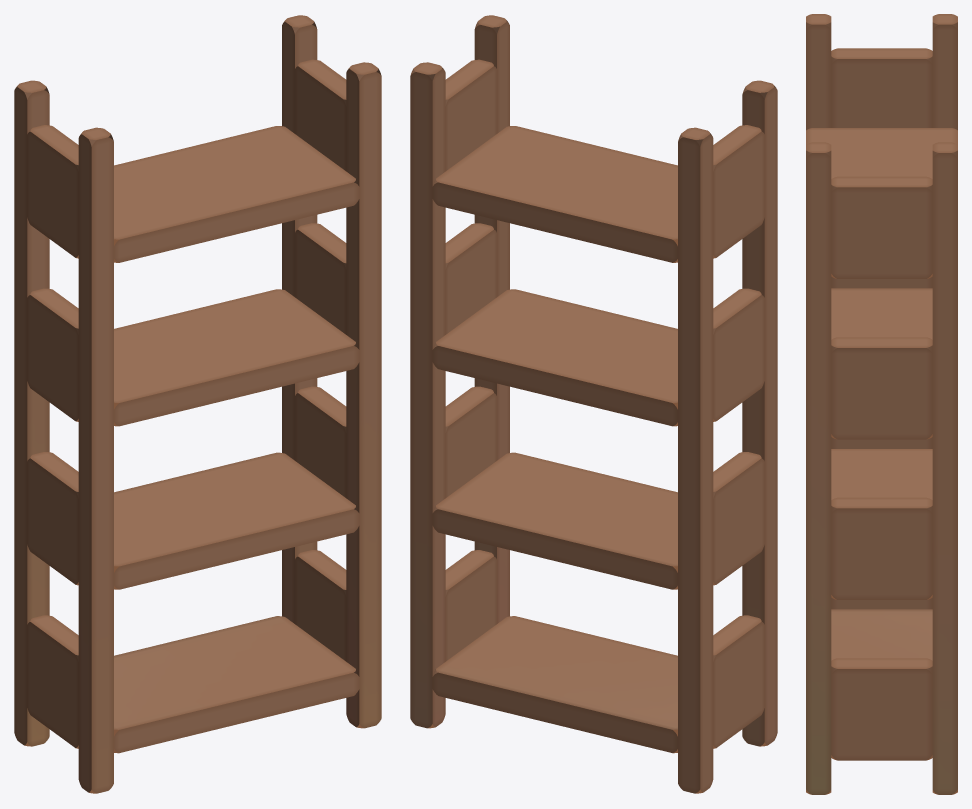
Rendered from shelf.obj.
The picture shows the model from 3 angles, left to right: view 1: azimuth 30°, elevation 25°; view 2: azimuth 150°, elevation 25°; view 3: azimuth 270°, elevation 25°; orthographic projection.
Visible parts, largest first — view 1: mesh; view 2: mesh; view 3: mesh.
Part boxes in pixels (<box>): mesh: <box>14,15,381,793</box>; mesh: <box>410,15,777,793</box>; mesh: <box>806,14,957,794</box>.
Size of the model in its own units: 1.62 by 3.5 by 0.75.
1 material, 1 textured.
